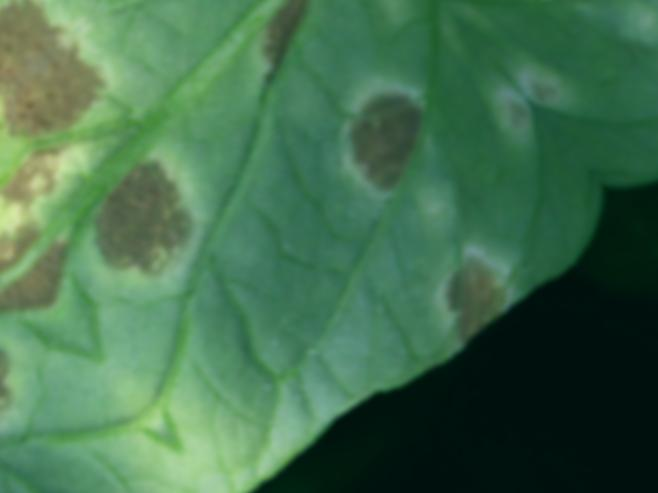Tomato mold leaf: (0, 0, 634, 493)
